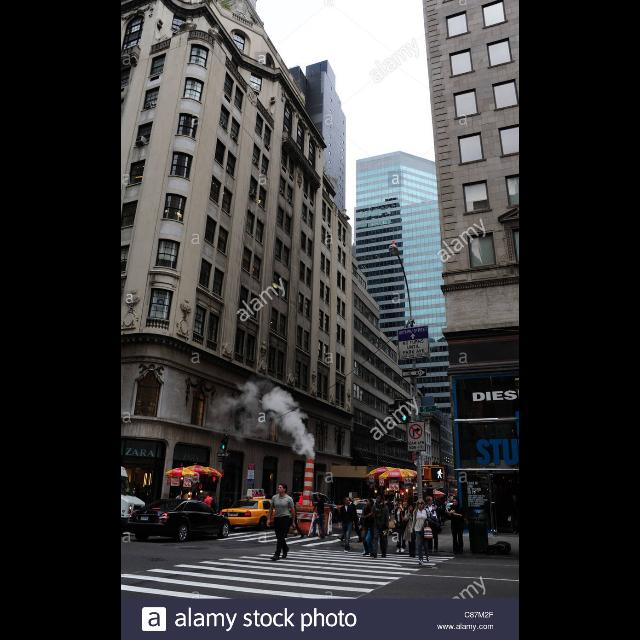head: (278, 484, 288, 494), (417, 499, 425, 508), (344, 496, 351, 506), (366, 498, 374, 506), (426, 497, 434, 505), (344, 498, 352, 506), (454, 498, 461, 506), (377, 495, 383, 503), (398, 500, 404, 508), (408, 504, 414, 512), (316, 493, 322, 499), (388, 497, 392, 503), (204, 493, 208, 497), (180, 493, 182, 497)
person: (266, 481, 298, 561), (410, 498, 440, 566), (369, 495, 391, 559), (336, 498, 366, 544), (447, 497, 468, 557), (422, 495, 442, 555), (338, 496, 357, 554), (360, 497, 378, 557), (402, 503, 420, 559), (393, 498, 409, 554), (310, 492, 328, 540), (203, 491, 219, 529), (383, 496, 395, 534), (174, 492, 183, 514)
